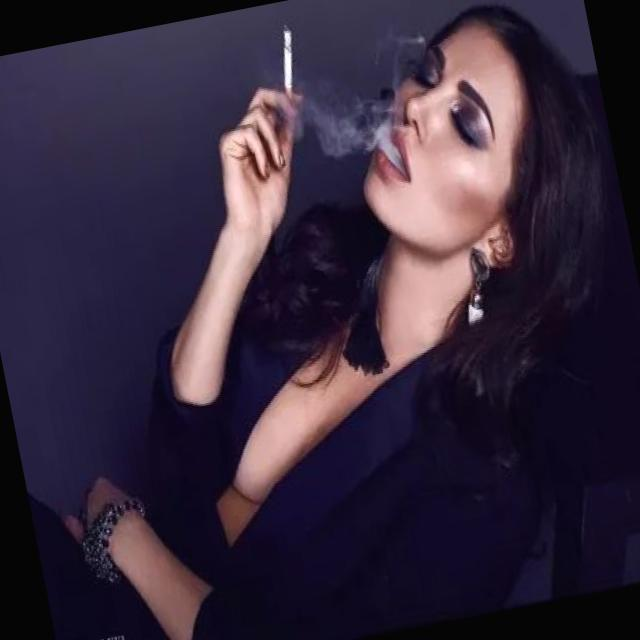cigarette: (270, 22, 308, 102)
